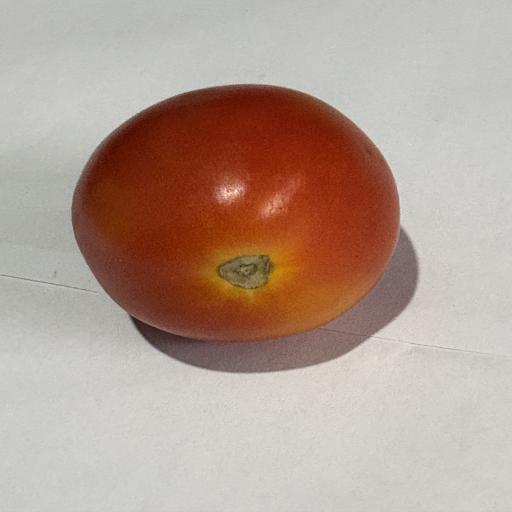ripe: (72, 85, 400, 341)
